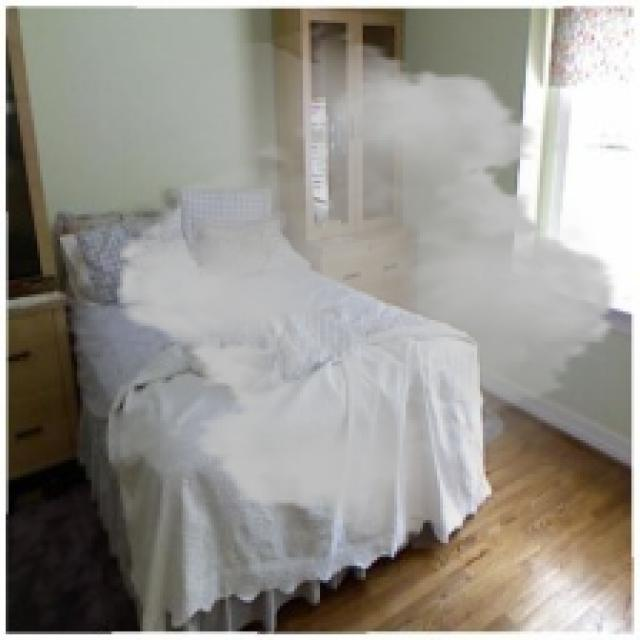smoke: (94, 31, 637, 548)
